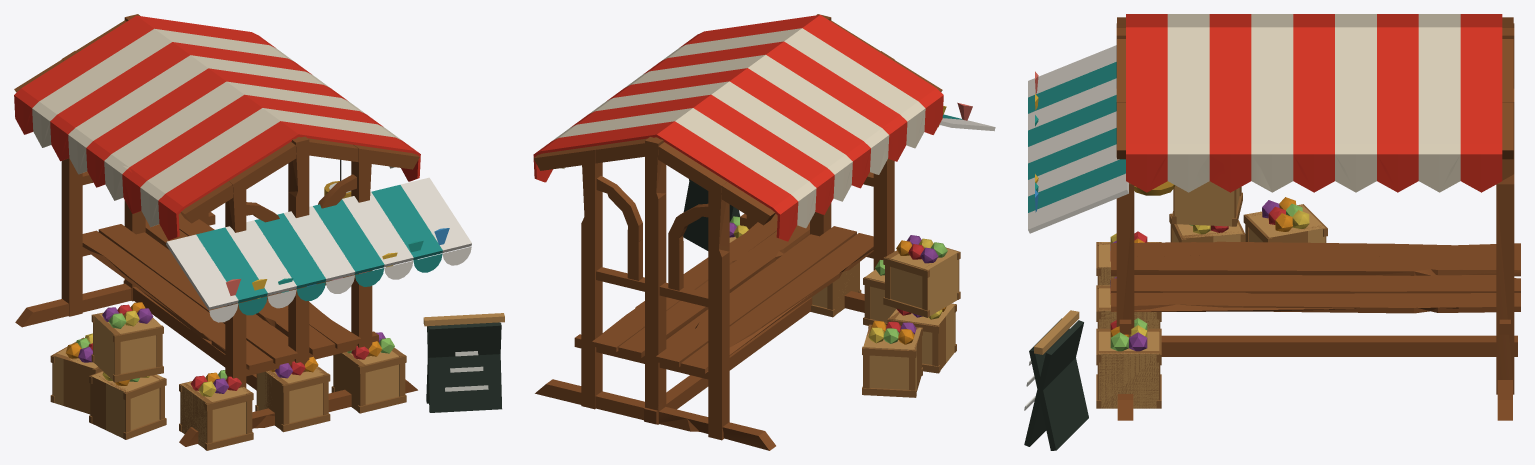
Rendered from market_stand-2.glb.
The picture shows the model from 3 angles, left to right: view 1: azimuth 30°, elevation 25°; view 2: azimuth 150°, elevation 25°; view 3: azimuth 270°, elevation 25°; orthographic projection. The views are drawn at different scales.
Parts seen in each view (by area): view 1: building-market_stand-2, building-market_stand-2-far; view 2: building-market_stand-2, building-market_stand-2-far; view 3: building-market_stand-2, building-market_stand-2-far.
Boxes of the visible parts, left/top/right/bottom form: building-market_stand-2: left=14, top=14, right=501, bottom=450; building-market_stand-2-far: left=14, top=20, right=504, bottom=448; building-market_stand-2: left=533, top=14, right=972, bottom=440; building-market_stand-2-far: left=533, top=20, right=995, bottom=450; building-market_stand-2: left=1024, top=14, right=1520, bottom=450; building-market_stand-2-far: left=1024, top=14, right=1520, bottom=450.
Bounding box in the file's own units: 3.79 × 3 × 4.12.
